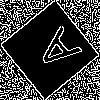A: (25, 24, 82, 80)
